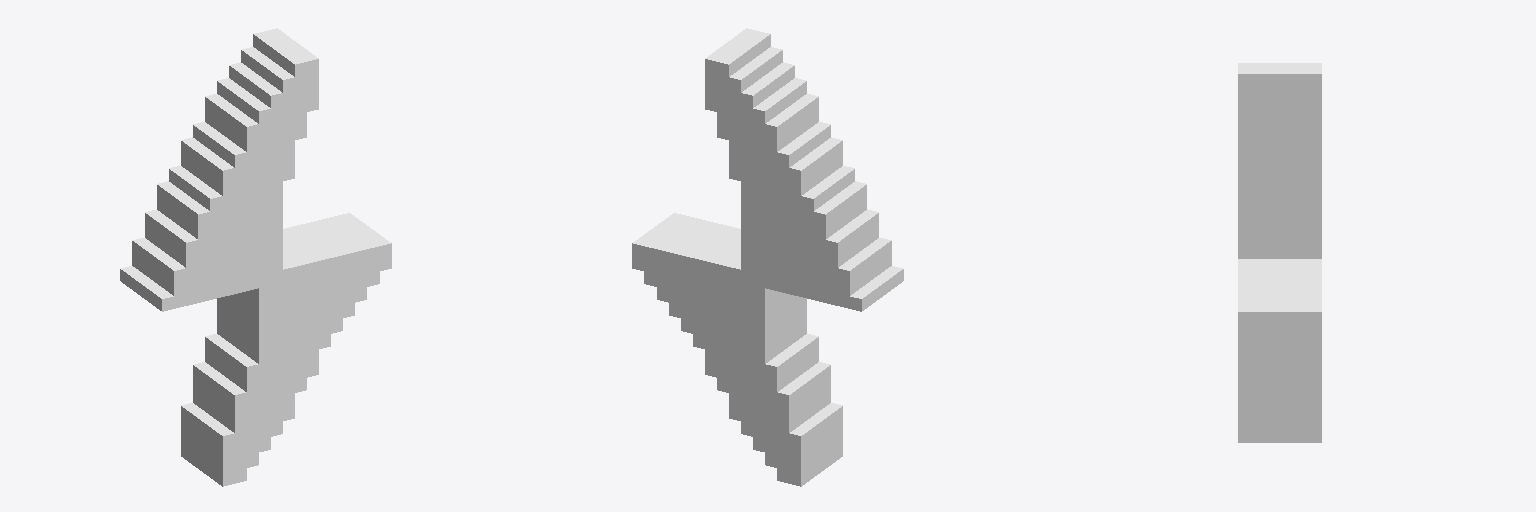
Rendered from invincible.obj.
3 renders of one model, left to right at view 1: azimuth 30°, elevation 25°; view 2: azimuth 150°, elevation 25°; view 3: azimuth 270°, elevation 25°, orthographic.
Visible parts, largest first — view 1: object 1; view 2: object 1; view 3: object 1.
Boxes of the visible parts, <box> form: object 1: <box>120,28,391,486</box>; object 1: <box>632,28,903,486</box>; object 1: <box>1238,63,1321,442</box>.
Size of the model in its own units: 1.9 by 3.2 by 0.6.